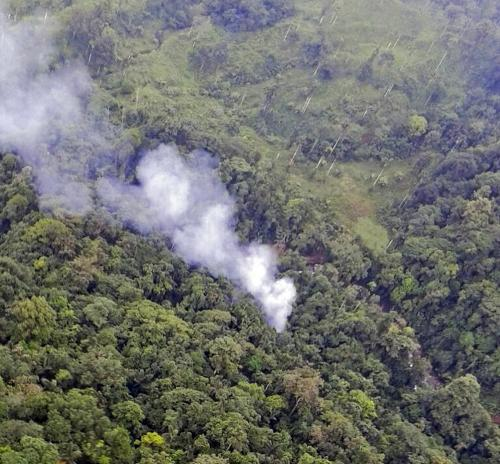smoke: (134, 158, 307, 328)
